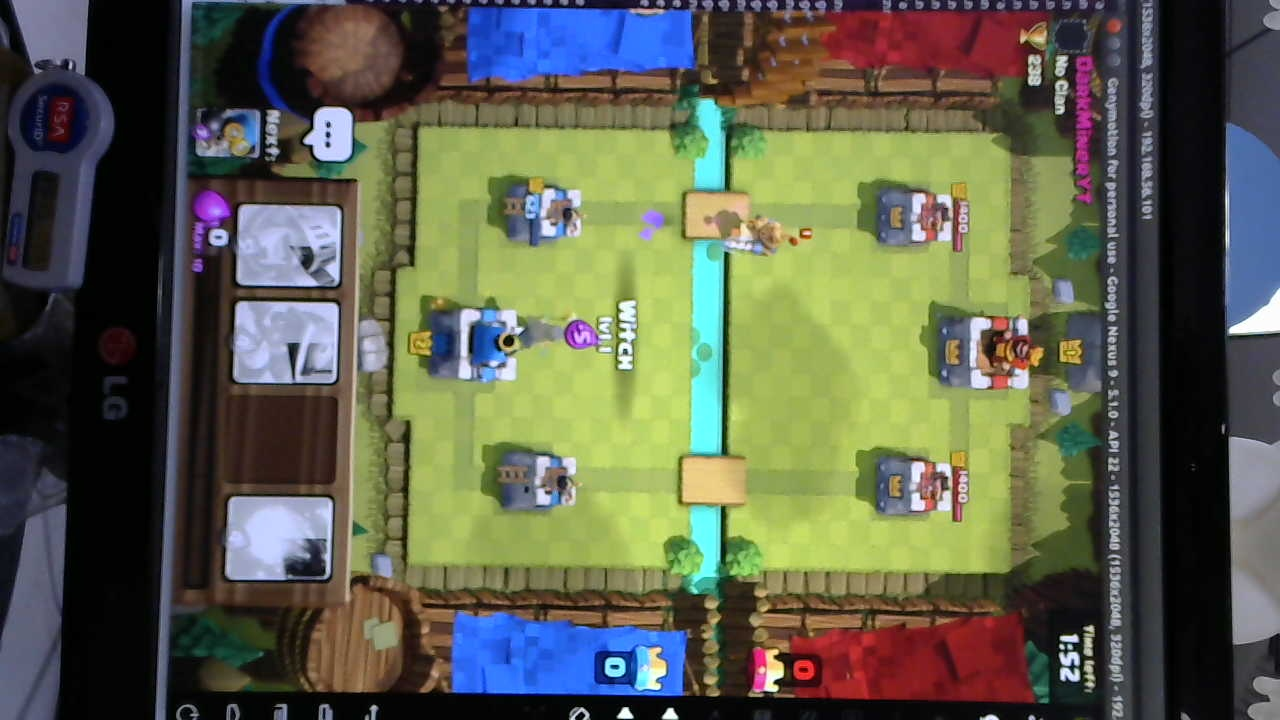arena: (494, 452, 581, 514), (505, 182, 586, 246)
earena: (869, 455, 957, 519), (874, 190, 956, 248)
eking: (938, 318, 1041, 391)
king: (427, 305, 524, 384)
prince: (723, 214, 792, 260)
